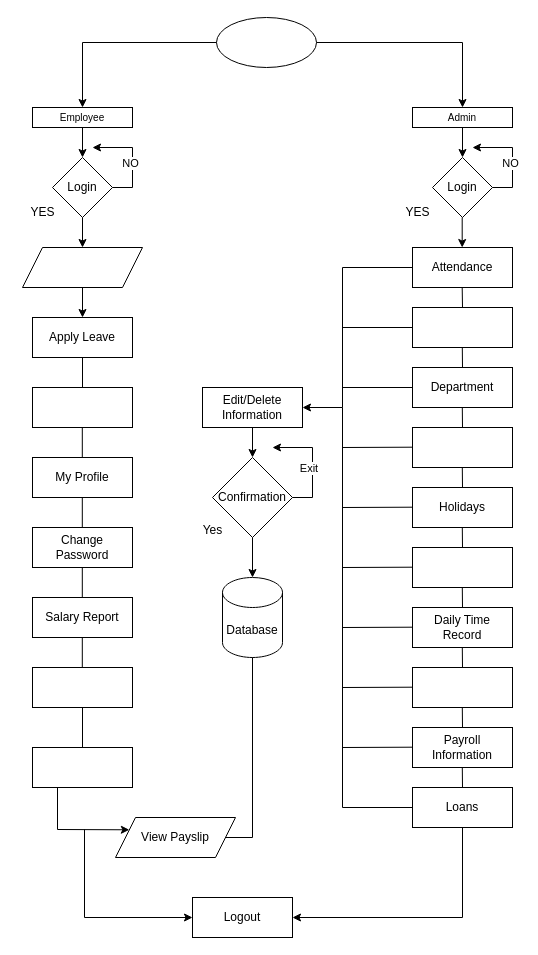
Some shapes in this 538 by 955 pixel diagram are drawn without their labels. Here are the shapes that lost their labels. From the top down, the centre of each, then its label:
(266,42): Start
(82,267): View Dashboard
(462,327): Employee Masterlist
(82,407): Apply OT
(462,447): Shifts
(462,567): Leaves
(82,687): Attendance Report
(462,687): Overtime
(82,767): Print Payslips
